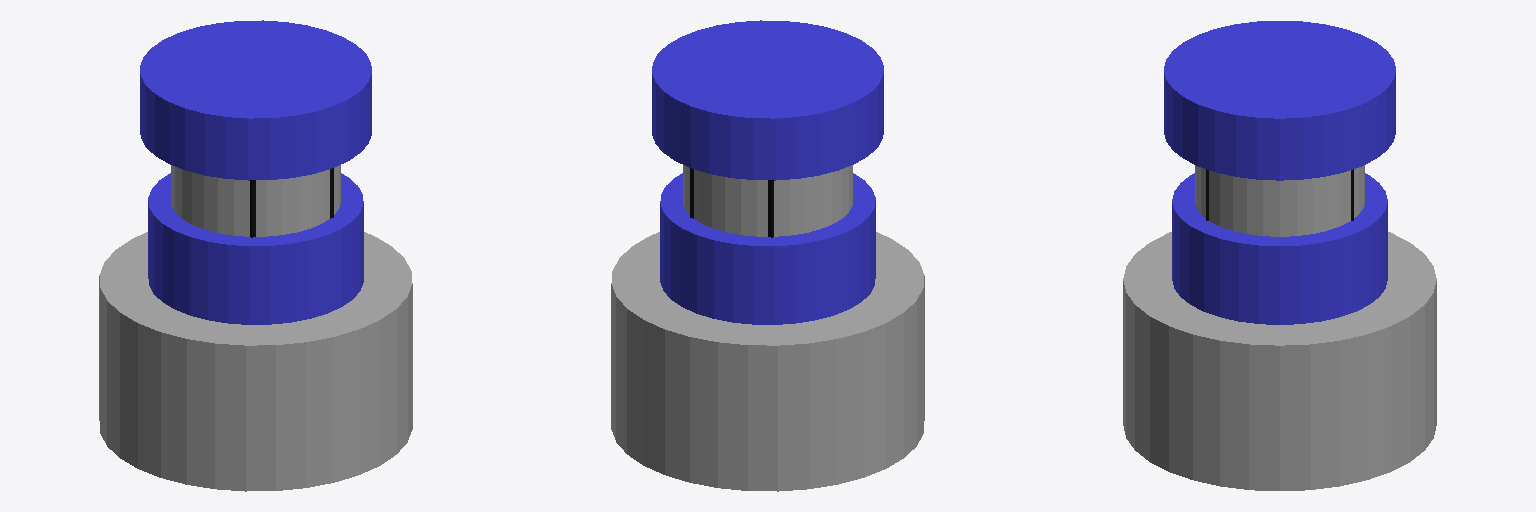
URDF robot description (evolved_robot):
<?xml version="1.0"?>
<robot name="evolved_robot">
  <material name="metal">
    <color rgba="0.7 0.7 0.7 1.0"/>
  </material>
  <material name="plastic">
    <color rgba="0.3 0.3 0.9 1.0"/>
  </material>
  <material name="rubber">
    <color rgba="0.1 0.1 0.1 1.0"/>
  </material>
  <material name="red">
    <color rgba="1.0 0.0 0.0 1.0"/>
  </material>
  <material name="wheel_material">
    <color rgba="0.2 0.2 0.2 1.0"/>
  </material>
  <link name="base_link">
    <visual>
      <geometry><cylinder radius="0.11914373872814613" length="0.1222400662433975"/></geometry>
      <material name="metal"/>
    </visual>
    <collision>
      <geometry><cylinder radius="0.11914373872814613" length="0.1222400662433975"/></geometry>
    </collision>
    <inertial>
      <mass value="5.0"/>
      <inertia ixx="0.047940271024627036" ixy="0" ixz="0" 
               iyy="0.047940271024627036" iyz="0" 
               izz="0.07097615239060373"/>
    </inertial>
  </link>
  <link name="link1">
    <visual>
      <geometry><cylinder radius="0.08198830787742387" length="0.13188925897552822"/></geometry>
      <material name="plastic"/>
    </visual>
    <collision>
      <geometry><cylinder radius="0.08198830787742387" length="0.13188925897552822"/></geometry>
    </collision>
    <inertial>
      <mass value="0.5"/>
      <inertia ixx="0.0031300853765769735" ixy="0" ixz="0" 
               iyy="0.0031300853765769735" iyz="0" 
               izz="0.003361041314301622"/>
    </inertial>
  </link>
  <joint name="joint1" type="revolute">
    <parent link="base_link"/>
    <child link="link1"/>
    <origin xyz="0 0 0.06112003312169875" rpy="0 0 0"/>
    <axis xyz="0.9129993566837745 0.3296026305840588 0.24040441053999465"/>
    <dynamics damping="0.7359971814790645" friction="0.1"/>
    <limit lower="-1.6878129517187643" upper="0.9260778014596435" effort="100" velocity="100"/>
  </joint>
  <link name="link2">
    <visual>
      <geometry><box size="0.07242867081383741 0.11224938386190869 0.18783796745459674"/></geometry>
      <material name="rubber"/>
    </visual>
    <collision>
      <geometry><box size="0.07242867081383741 0.11224938386190869 0.18783796745459674"/></geometry>
    </collision>
    <inertial>
      <mass value="0.5"/>
      <inertia ixx="0.003990252182904355" ixy="0" ixz="0" 
               iyy="0.003377417864444447" iyz="0" 
               izz="0.0014871530444364462"/>
    </inertial>
  </link>
  <joint name="joint2" type="revolute">
    <parent link="base_link"/>
    <child link="link2"/>
    <origin xyz="0 0 0.11112003312169876" rpy="0 0 0"/>
    <axis xyz="0.4967984064063378 -0.8664829263810957 -0.0489763379824961"/>
    <dynamics damping="0.7292250985731518" friction="0.1"/>
    <limit lower="-2.414115064041525" upper="0.34416536407093423" effort="100" velocity="100"/>
  </joint>
  <link name="link3">
    <visual>
      <geometry><cylinder radius="0.06493263360332116" length="0.06972589290644436"/></geometry>
      <material name="metal"/>
    </visual>
    <collision>
      <geometry><cylinder radius="0.06493263360332116" length="0.06972589290644436"/></geometry>
    </collision>
    <inertial>
      <mass value="0.5"/>
      <inertia ixx="0.0014592034051325337" ixy="0" ixz="0" 
               iyy="0.0014592034051325337" iyz="0" 
               izz="0.002108123453331576"/>
    </inertial>
  </link>
  <joint name="joint3" type="fixed">
    <parent link="base_link"/>
    <child link="link3"/>
    <origin xyz="0 0 0.16112003312169876" rpy="0 0 0"/>
    <axis xyz="0.35211363984873595 0.8152725844333524 0.45972448020943696"/>
    <dynamics damping="0.5669098995162578" friction="0.1"/>
  </joint>
  <link name="link4">
    <visual>
      <geometry><cylinder radius="0.08833531434849853" length="0.051915120252672614"/></geometry>
      <material name="plastic"/>
    </visual>
    <collision>
      <geometry><cylinder radius="0.08833531434849853" length="0.051915120252672614"/></geometry>
    </collision>
    <inertial>
      <mass value="0.5"/>
      <inertia ixx="0.0021753802494994677" ixy="0" ixz="0" 
               iyy="0.0021753802494994677" iyz="0" 
               izz="0.0039015638805240255"/>
    </inertial>
  </link>
  <joint name="joint4" type="revolute">
    <parent link="base_link"/>
    <child link="link4"/>
    <origin xyz="0 0 0.21112003312169877" rpy="0 0 0"/>
    <axis xyz="0.0 1.0 0.0"/>
    <dynamics damping="0.7586822519868953" friction="0.1"/>
    <limit lower="-2.2870075350351278" upper="1.0957559901947327" effort="100" velocity="100"/>
  </joint>
</robot>

--- Facts derived from the render (not from the file) ---
3 views of the same robot in one strip: view 1: azimuth 30°, elevation 25°; view 2: azimuth 150°, elevation 25°; view 3: azimuth 270°, elevation 25° (orthographic).
Model evolved_robot with 5 links and 4 joints (3 revolute, 1 fixed), rooted at base_link, posed all joints at 0.
Links seen in each view (by area): view 1: base_link, link4, link1, link3, link2; view 2: base_link, link4, link1, link3, link2; view 3: base_link, link4, link1, link3.
Boxes of the visible links, x1,y1,x2,y2 form: base_link: [99, 232, 412, 491]; link4: [140, 20, 371, 180]; link1: [148, 173, 363, 324]; link3: [171, 165, 340, 236]; link2: [250, 168, 333, 237]; base_link: [611, 232, 924, 491]; link4: [652, 20, 883, 180]; link1: [660, 173, 875, 324]; link3: [683, 165, 852, 236]; link2: [690, 168, 773, 237]; base_link: [1123, 232, 1436, 490]; link4: [1164, 21, 1395, 180]; link1: [1172, 173, 1387, 324]; link3: [1195, 165, 1364, 236].
Bounding box of the posed robot: 0.2383 × 0.2383 × 0.2982 m (x, y, z).
Geometry: primitives only (box / cylinder / sphere), no mesh files.